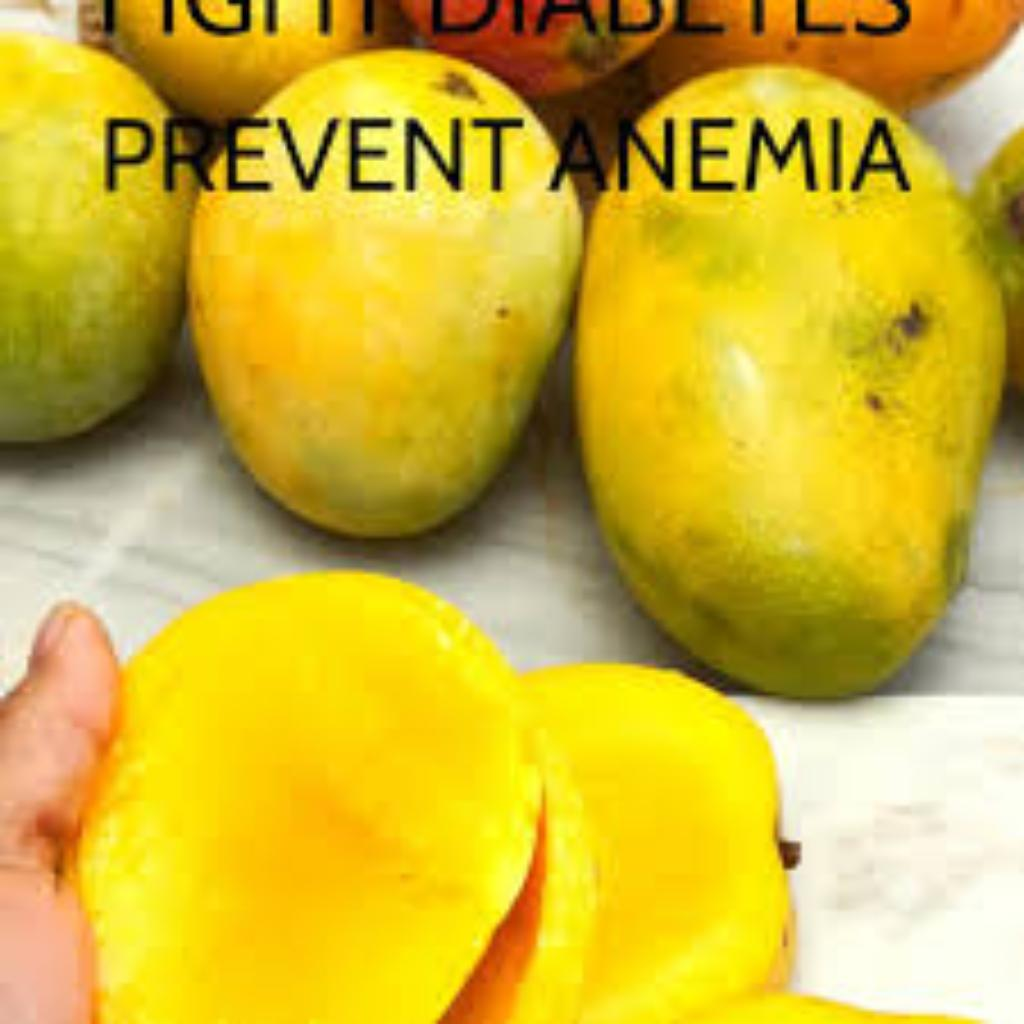mango: (590, 66, 1001, 718), (179, 38, 611, 539), (68, 569, 542, 1024), (435, 667, 791, 1023), (0, 31, 206, 445)
